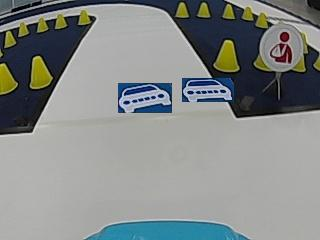cone: (214, 39, 239, 72), (29, 56, 52, 89), (0, 60, 16, 93), (253, 52, 270, 70), (54, 13, 68, 28), (197, 2, 211, 17), (175, 2, 189, 17), (4, 30, 17, 46), (293, 55, 305, 72), (77, 10, 90, 25), (222, 4, 235, 19), (255, 12, 268, 27), (36, 17, 48, 32), (18, 21, 29, 36), (242, 6, 253, 20)
patient: (263, 25, 300, 68)
